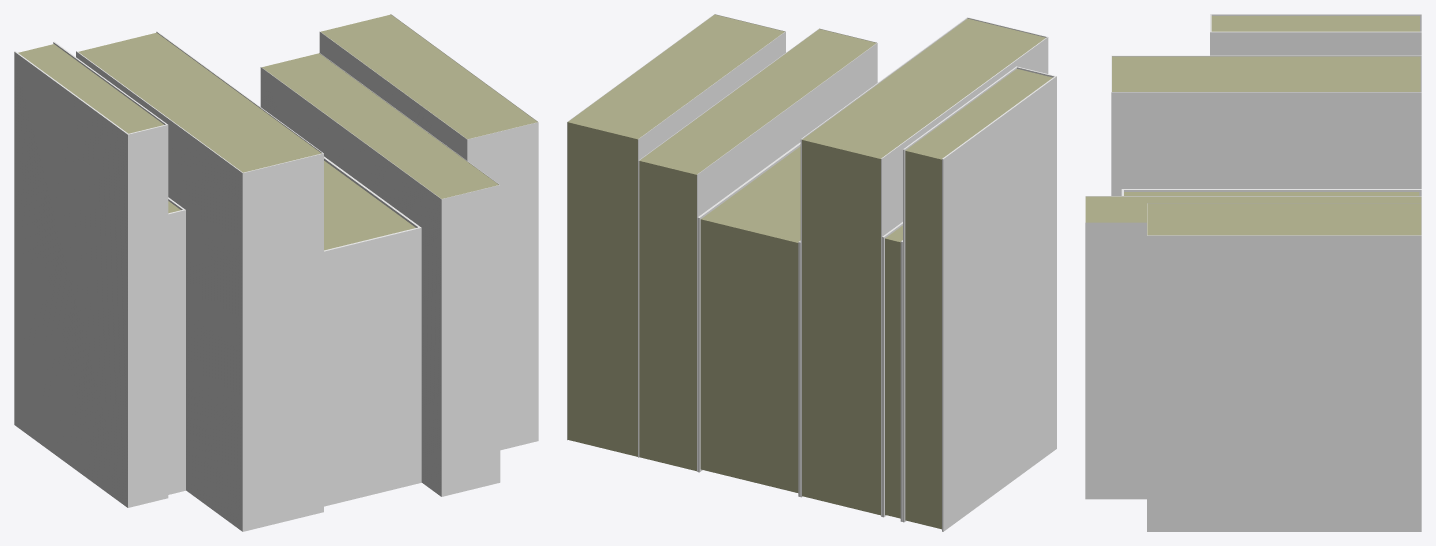
Rendered from bookPile.fbx.
3 views of the same model, side by side, from view 1: azimuth 30°, elevation 25°; view 2: azimuth 150°, elevation 25°; view 3: azimuth 270°, elevation 25° (orthographic). The views are drawn at different scales.
Parts seen in each view (by area): view 1: bookPile; view 2: bookPile; view 3: bookPile.
Part boxes in pixels (x1=…): bookPile: x1=14, y1=14, x2=538, y2=531; bookPile: x1=567, y1=14, x2=1056, y2=531; bookPile: x1=1085, y1=14, x2=1421, y2=531.
Size of the model in its own units: 59.03 by 55.87 by 49.05.
